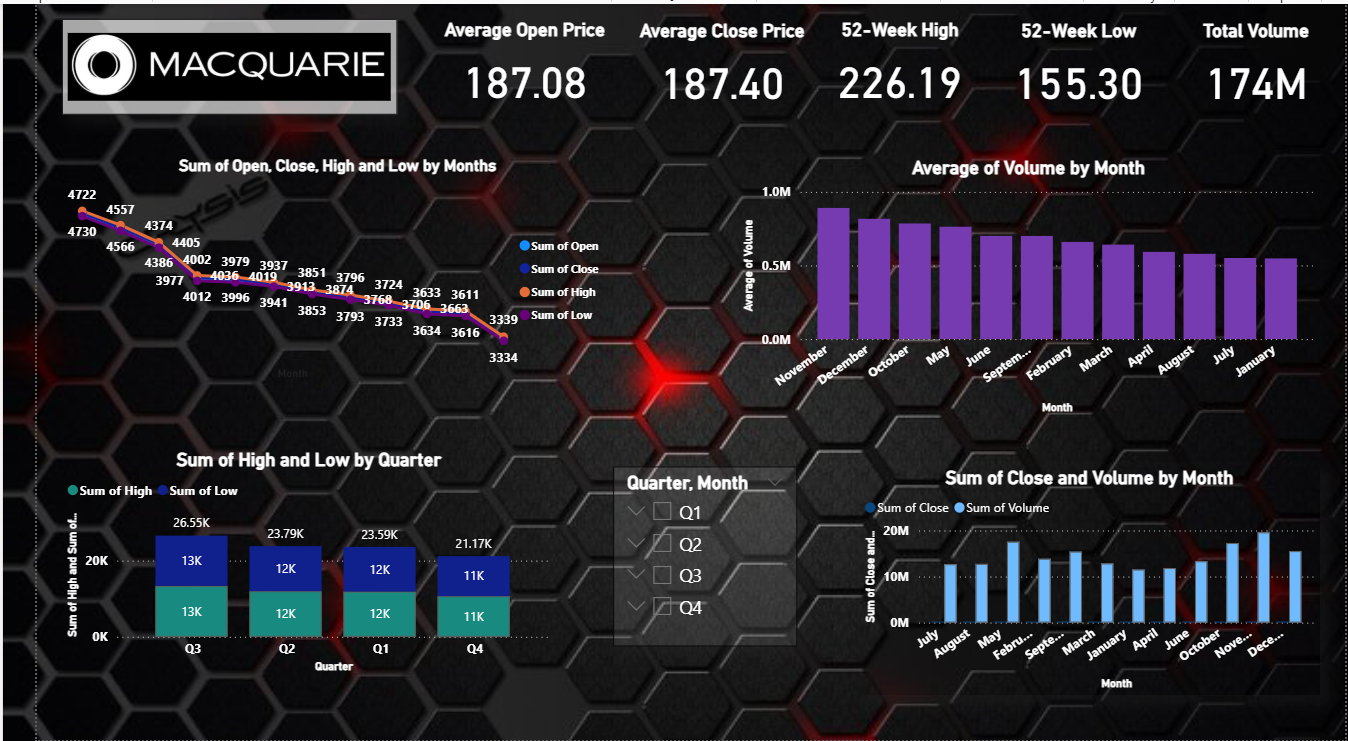

This screenshot's page, from the dashboard's own definition file:
{"tool":"powerbi","page":{"name":"Page 1","canvas":[1280,720],"ordinal":0},"visuals":[{"type":"card","title":"Average Open Price","fields":{"Values":["Avg(Macquarie.Open)"]},"box":[389.7,15.1,174.3,94.7],"z":0},{"type":"card","title":"Average Close Price","fields":{"Values":["Avg(Macquarie.Close)"]},"box":[583.2,16.5,174.3,94.7],"z":1000},{"type":"card","title":"52-Week High","fields":{"Values":["Max(Macquarie.High)"]},"box":[757.5,15.1,174.3,94.7],"z":2000},{"type":"card","title":"52-Week Low","fields":{"Values":["Min(Macquarie.Low)"]},"box":[931.7,16.5,174.3,94.7],"z":3000},{"type":"card","title":"Total Volume","fields":{"Values":["Sum(Macquarie.Volume)"]},"box":[1106,16.5,174.3,94.7],"z":4000},{"type":"image","box":[24.7,15.1,328,93.3],"z":5000},{"type":"lineChart","title":"Sum of Open, Close, High and Low by Months","fields":{"Y":["Sum(Macquarie.Open)","Sum(Macquarie.Close)","Sum(Macquarie.High)","Sum(Macquarie.Low)"],"Category":["Macquarie.Month"]},"box":[24.7,149.6,539.3,223.7],"z":6000},{"type":"clusteredColumnChart","fields":{"Category":["Macquarie.Month"],"Y":["Avg(Macquarie.Volume)"]},"box":[686.1,149.6,568.1,256.6],"z":7000},{"type":"columnChart","title":"Sum of High and Low by Quarter","fields":{"Category":["Macquarie.Quarter"],"Y":["Sum(Macquarie.High)","Sum(Macquarie.Low)"]},"box":[24.7,435,483,223.7],"z":8000},{"type":"lineClusteredColumnComboChart","title":"Sum of Close and Volume by Month","fields":{"Category":["Macquarie.Month"],"Y":["Sum(Macquarie.Close)","Sum(Macquarie.Volume)"]},"box":[804.1,452.8,450.1,223.7],"z":9000},{"type":"slicer","fields":{"Values":["Macquarie.Quarter","Macquarie.Month"]},"box":[564,452.8,179.8,175.6],"z":10000}]}

Visuals, with their boxes in screenshot pixels (x1, y1, x2, y2), scaled from the page's 1280x720 canvas onto the 1348x741 screenshot:
"Average Open Price" card: (x1=410, y1=16, x2=594, y2=113)
"Average Close Price" card: (x1=614, y1=17, x2=798, y2=114)
"52-Week High" card: (x1=798, y1=16, x2=981, y2=113)
"52-Week Low" card: (x1=981, y1=17, x2=1165, y2=114)
"Total Volume" card: (x1=1165, y1=17, x2=1347, y2=114)
image: (x1=26, y1=16, x2=371, y2=112)
"Sum of Open, Close, High and Low by Months" lineChart: (x1=26, y1=154, x2=594, y2=384)
clusteredColumnChart - Macquarie.Month x Avg(Macquarie.Volume): (x1=723, y1=154, x2=1321, y2=418)
"Sum of High and Low by Quarter" columnChart: (x1=26, y1=448, x2=535, y2=678)
"Sum of Close and Volume by Month" lineClusteredColumnComboChart: (x1=847, y1=466, x2=1321, y2=696)
slicer - Macquarie.Quarter x Macquarie.Month: (x1=594, y1=466, x2=783, y2=647)
